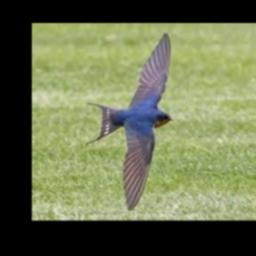Swallow: (86, 32, 174, 211)
